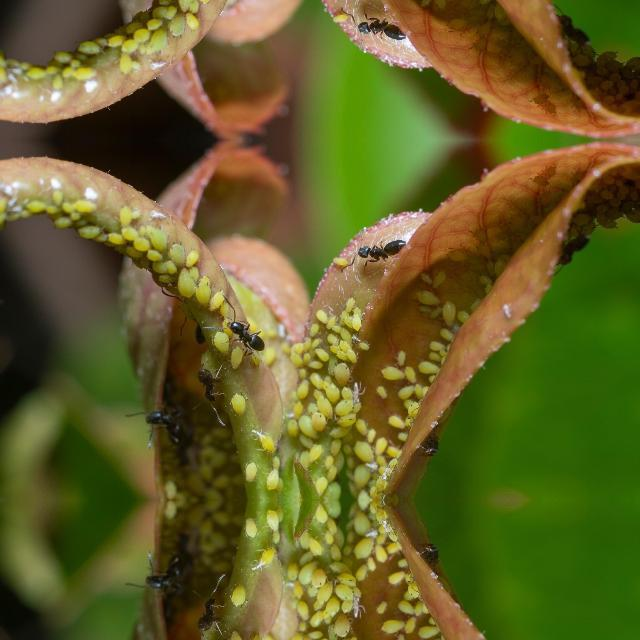Tapinoma: (136, 402, 206, 448), (136, 552, 206, 598), (344, 233, 414, 267), (344, 13, 414, 47), (215, 315, 273, 355), (544, 230, 588, 272), (544, 8, 588, 49), (187, 364, 230, 404), (187, 596, 230, 636), (413, 419, 439, 461), (413, 539, 439, 581)
